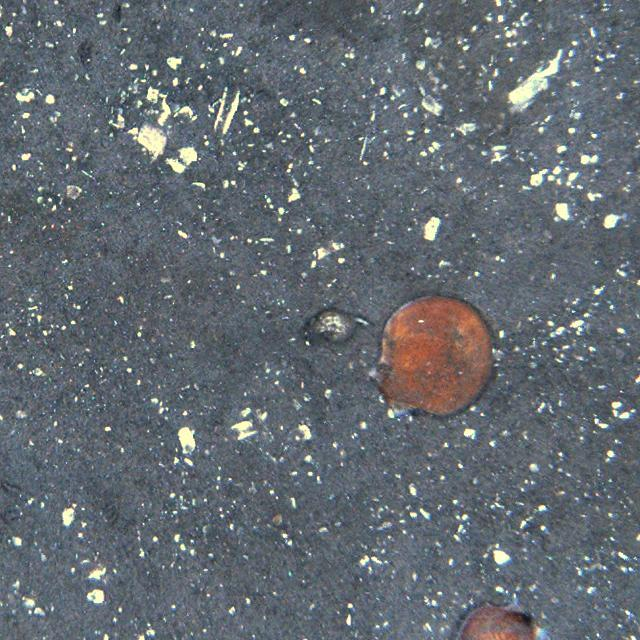whelk: (301, 308, 358, 349)
